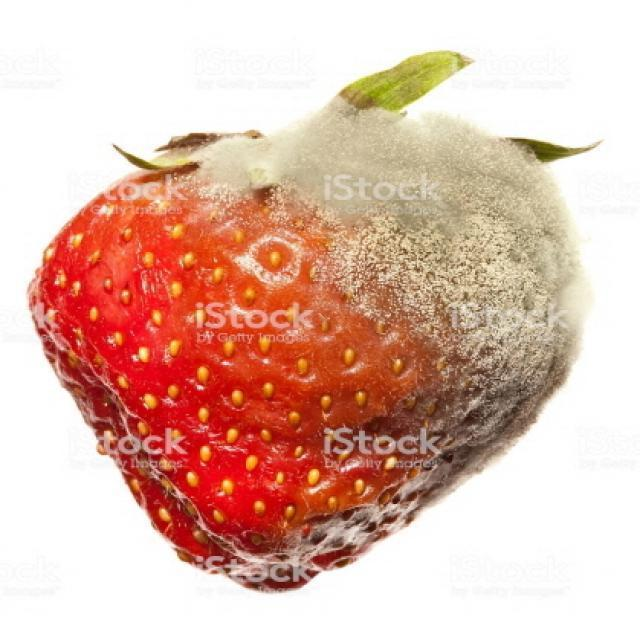Gray Mold: (26, 51, 592, 595)
